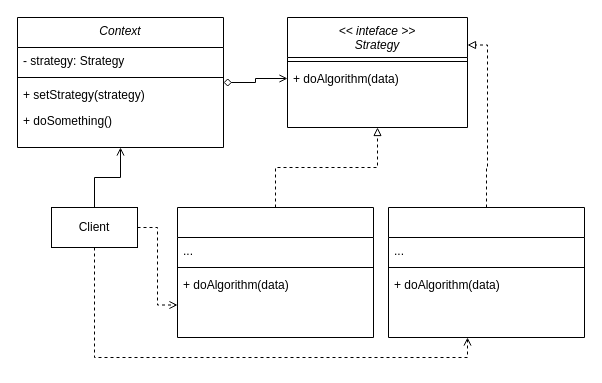
Image size: 602x383. Some labels were removed from this diagram. The box of each missing label's shape, as (x1, y1, x2, y2) in pixels:
ConcreteStrategyA: (176, 206, 374, 338)
ConcreteStrategyB: (388, 206, 584, 338)
